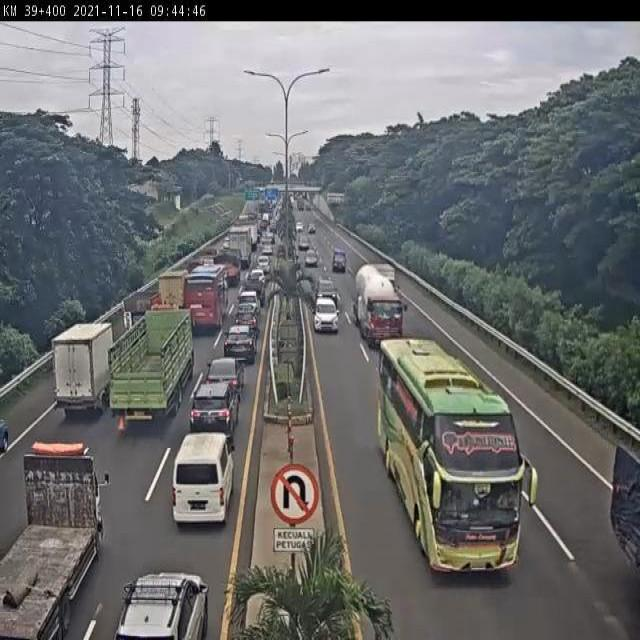big bus: (376, 338, 539, 570), (184, 267, 227, 332)
car: (188, 382, 236, 447), (204, 361, 245, 403), (221, 329, 253, 368), (312, 296, 338, 329), (232, 308, 259, 335), (236, 288, 261, 316)
small bus: (170, 431, 233, 526)
small truck: (154, 268, 187, 315)
truck-l-: (111, 314, 197, 430)
truck-m-: (0, 441, 113, 640), (54, 321, 115, 420), (118, 289, 161, 332)
truck-xl-: (355, 264, 407, 355)
